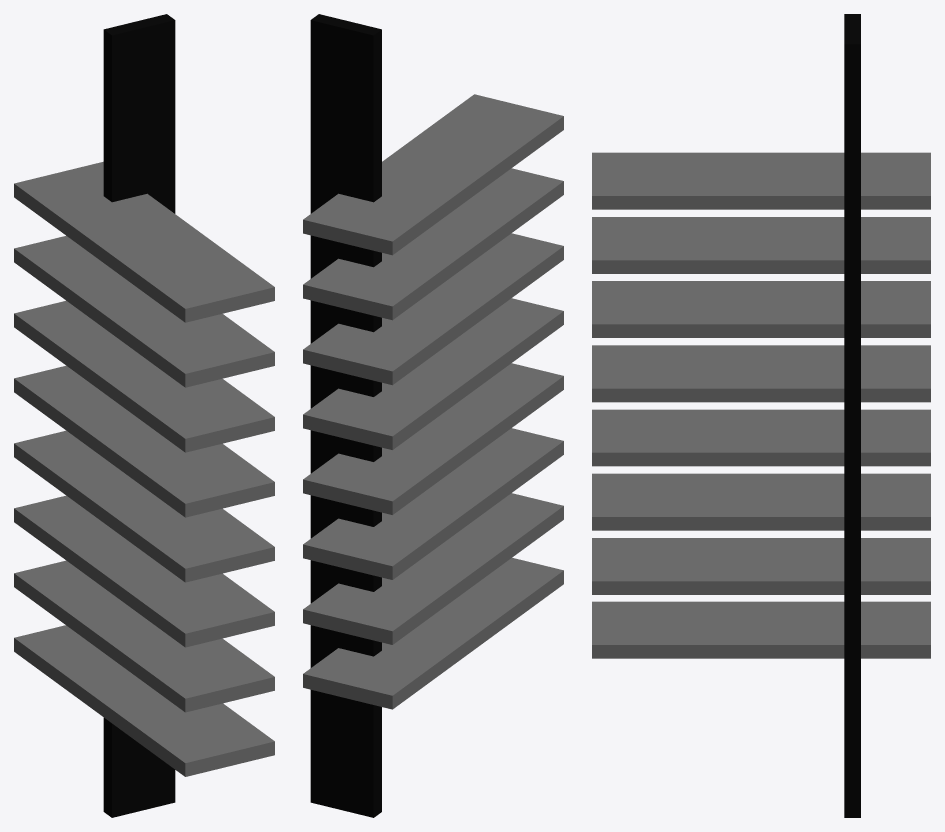
File: Sushi_Shelf.glb
3 renders of one model, left to right at view 1: azimuth 30°, elevation 25°; view 2: azimuth 150°, elevation 25°; view 3: azimuth 270°, elevation 25°, orthographic.
Visible parts, largest first — view 1: sushi_bar_shelf_geo; view 2: sushi_bar_shelf_geo; view 3: sushi_bar_shelf_geo.
Part boxes in pixels (x1,y1,x2,y2): sushi_bar_shelf_geo: [14, 14, 274, 817]; sushi_bar_shelf_geo: [303, 14, 563, 817]; sushi_bar_shelf_geo: [592, 14, 930, 817].
Size of what is drawn, in the model's own units: 0.6446 by 4.1 by 1.63.
Materials: 1 (1 with a texture image).
